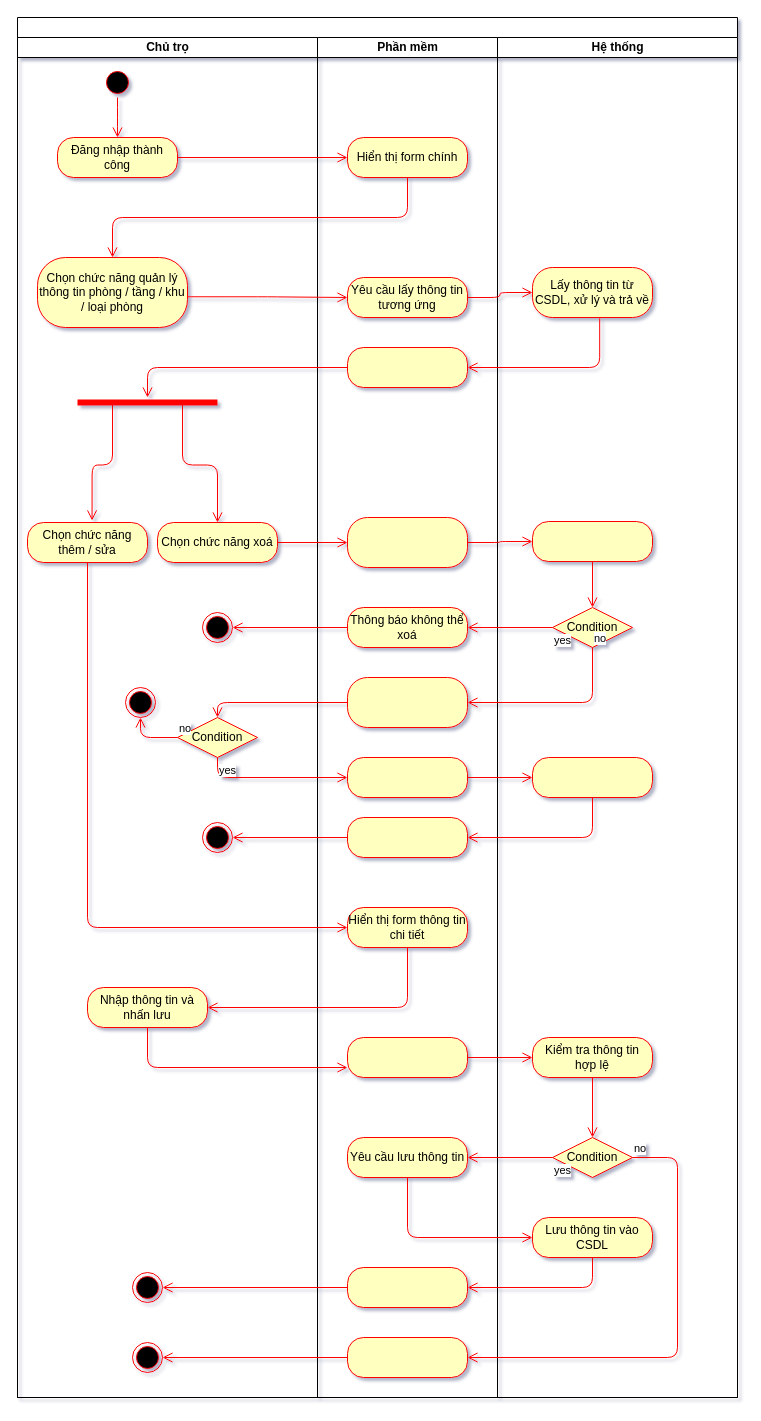
The diagram is 761 pixels wide and 1421 high, and some of its shapes have lost their labels. Here are the shapes that lost their labels. From the top down, the centre of each, then its label:
(407,367): Hiển thị thông tin tương ứng
(407,542): Yêu cầu kiểm tra thông tin có được tham chiếu
(592,541): Kiểm tra thông tin được tham chiếu
(407,702): Hỏi xác nhận xoá hay không
(407,777): Yêu cầu xoá thông tin
(592,777): Xoá thông tin trong CSDL
(407,837): Thông báo xoá thành công, tải lại dữ liệu
(407,1057): Yêu cầu kiểm tra thông tin hợp lệ
(407,1287): Thông báo lưu thành công và tải lại
(407,1357): Thông báo thông tin không hợp lệ
